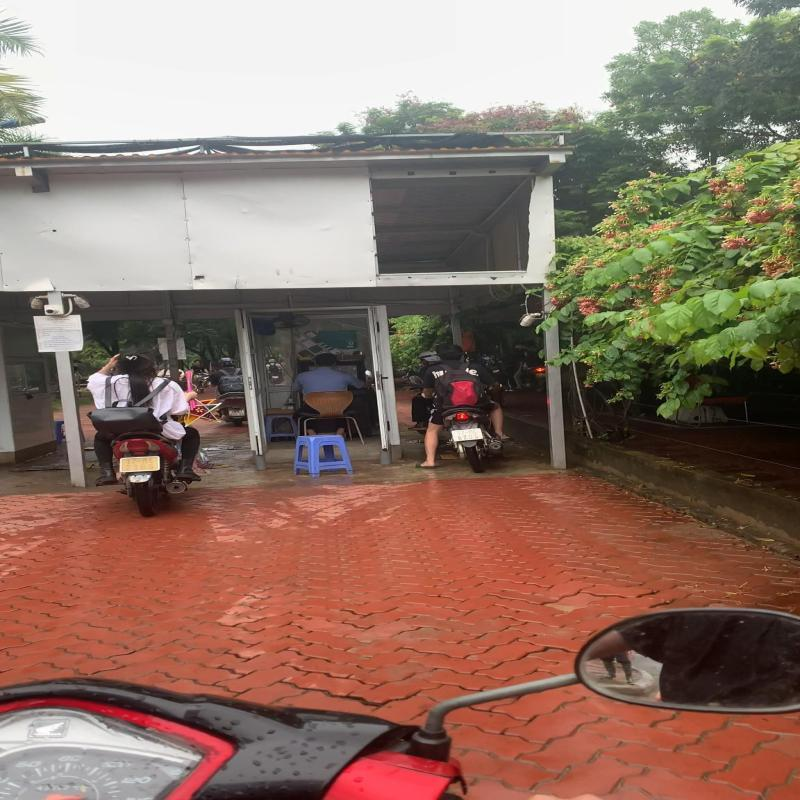nohelmet: (113, 345, 161, 375), (434, 341, 465, 360)
